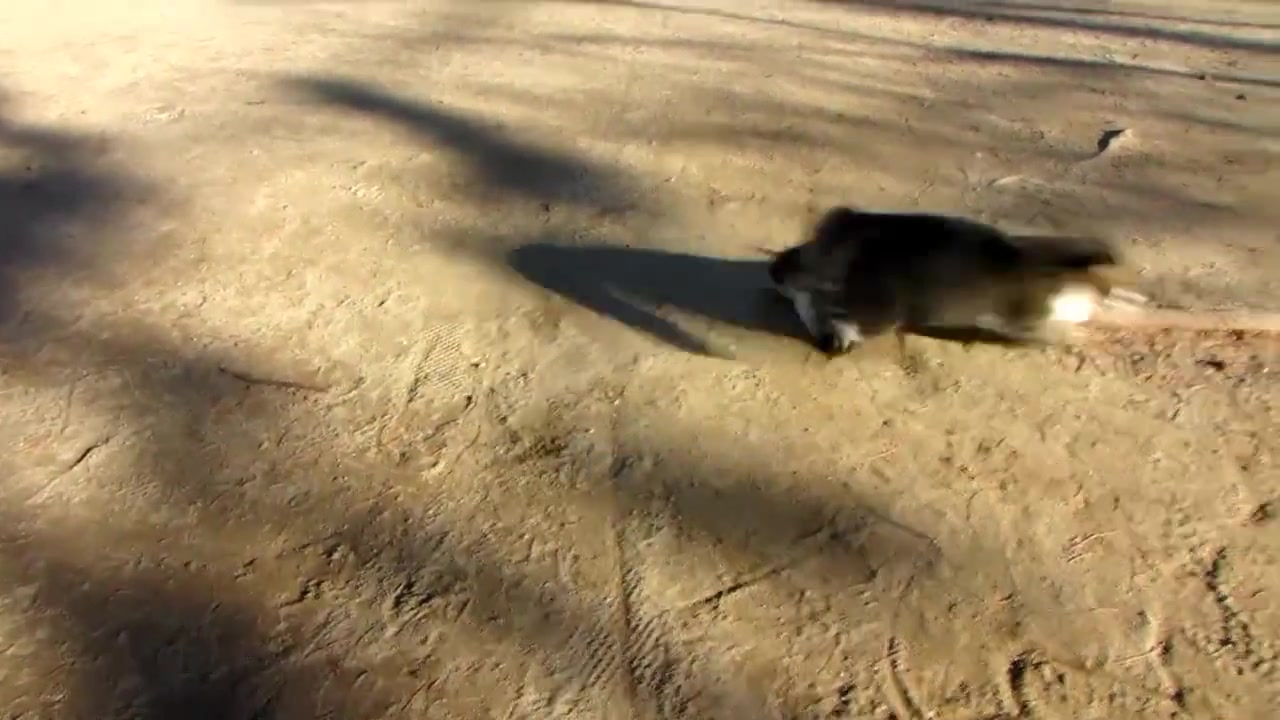cat: (769, 209, 1116, 356)
